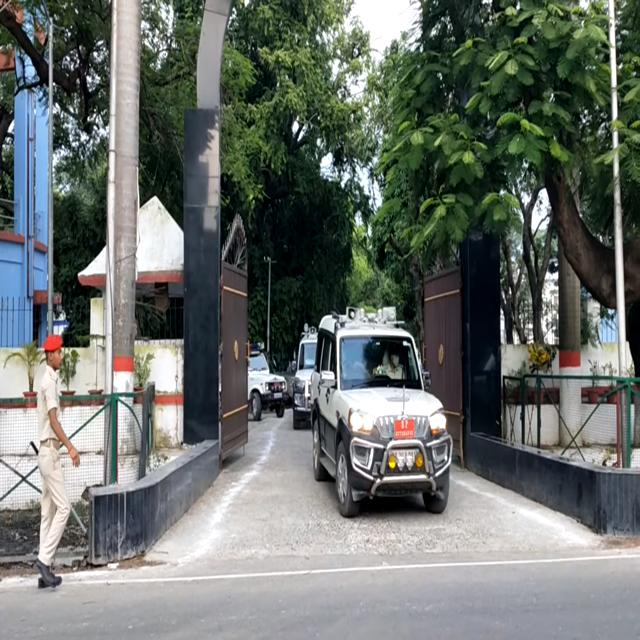emergency-vehicles: (286, 296, 478, 528)
